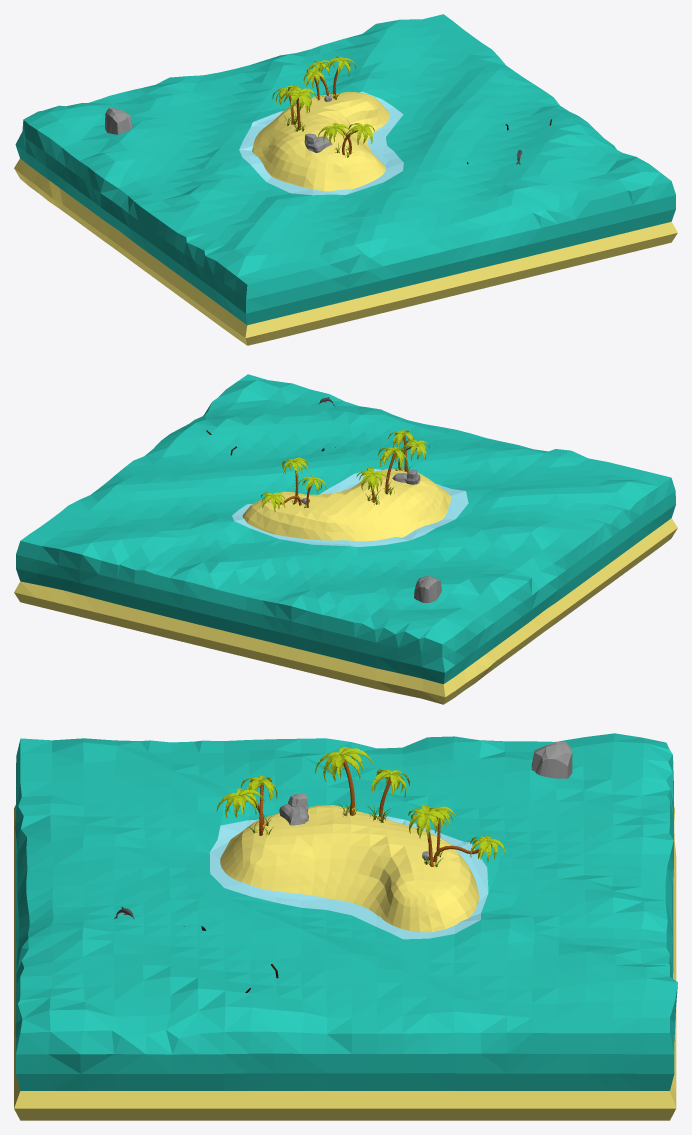
File: Low Poly Island By EdwinRCED .fbx
The picture shows the model from 3 angles, top to bottom: view 1: azimuth 30°, elevation 25°; view 2: azimuth 150°, elevation 25°; view 3: azimuth 270°, elevation 25°; orthographic projection. The views are drawn at different scales.
Visible parts, largest first — view 1: Cube_001, Cylinder_002, Cylinder_000, Cube_012; view 2: Cube_001, Cylinder_002, Cylinder_000, Cube_012; view 3: Cube_001, Cylinder_002, Cylinder_000, Cube_012, Cube_013, Plane_002, Plane_001.
Boxes of the visible parts, box(x1,y1,x2,y2) form: Cube_001: box(14, 14, 677, 345); Cylinder_002: box(303, 56, 356, 100); Cylinder_000: box(272, 85, 316, 130); Cube_012: box(105, 107, 132, 134); Cube_001: box(14, 374, 677, 704); Cylinder_002: box(260, 457, 326, 511); Cylinder_000: box(356, 447, 407, 502); Cube_012: box(414, 576, 441, 602); Cube_001: box(14, 733, 677, 1120); Cylinder_002: box(408, 804, 505, 866); Cylinder_000: box(315, 746, 409, 820); Cube_012: box(531, 741, 572, 778); Cube_013: box(279, 793, 308, 825); Plane_002: box(216, 788, 264, 830); Plane_001: box(241, 775, 277, 835).
Size of the model in its own units: 376 by 348 by 110.
